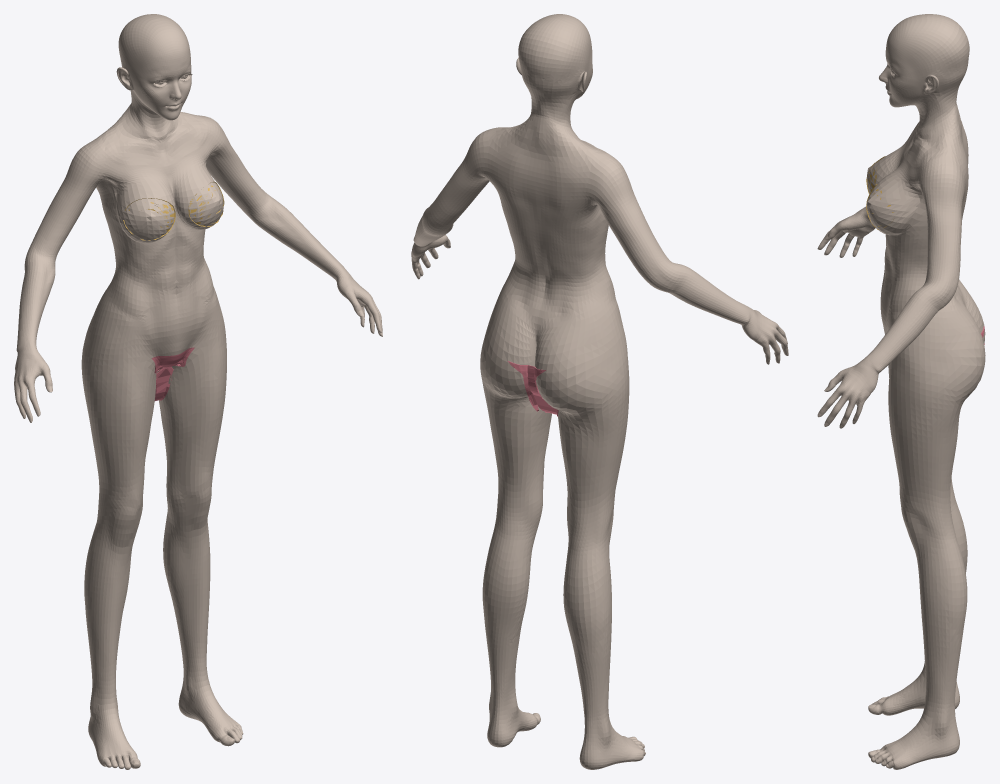
File: privacy_zones_debug.glb
3 views of the same model, side by side, from view 1: azimuth 30°, elevation 25°; view 2: azimuth 150°, elevation 25°; view 3: azimuth 270°, elevation 25° (orthographic). The views are drawn at different scales.
Parts seen in each view (by area): view 1: world; view 2: world; view 3: world.
Boxes of the visible parts, bbox=[...] form: world: bbox=[14, 14, 382, 769]; world: bbox=[411, 14, 788, 769]; world: bbox=[817, 14, 985, 769].
Size of the model in its own units: 0.9031 by 1.73 by 0.3653.
